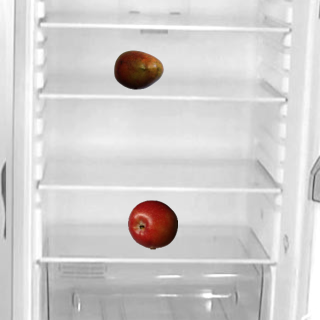Apple Braeburn: (127, 199, 177, 249)
Mango Red: (113, 44, 163, 94)
